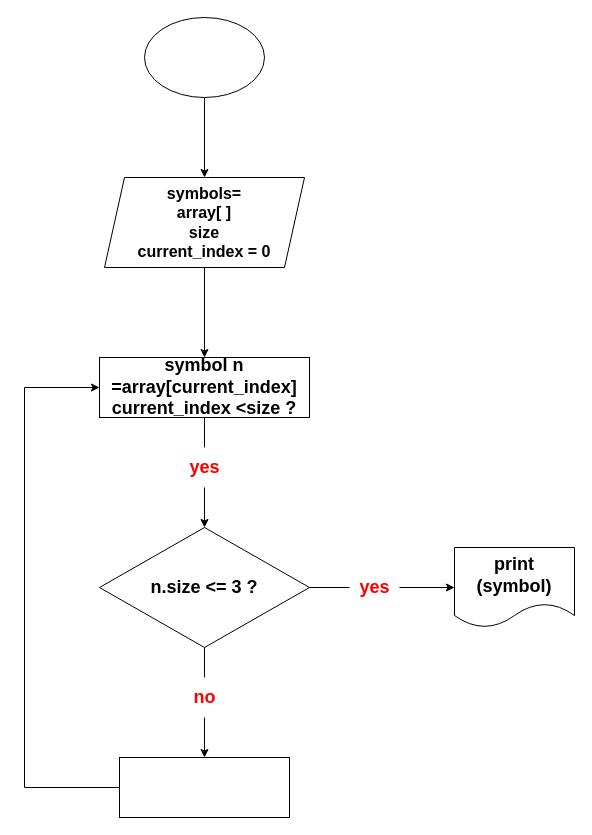
Image size: 592x835. Some labels were removed from this diagram. Here are the shapes that lost their labels. From the top down, the box of each, then its label:
(144, 16, 264, 98): start
(118, 756, 290, 818): current_index = current_index +1
